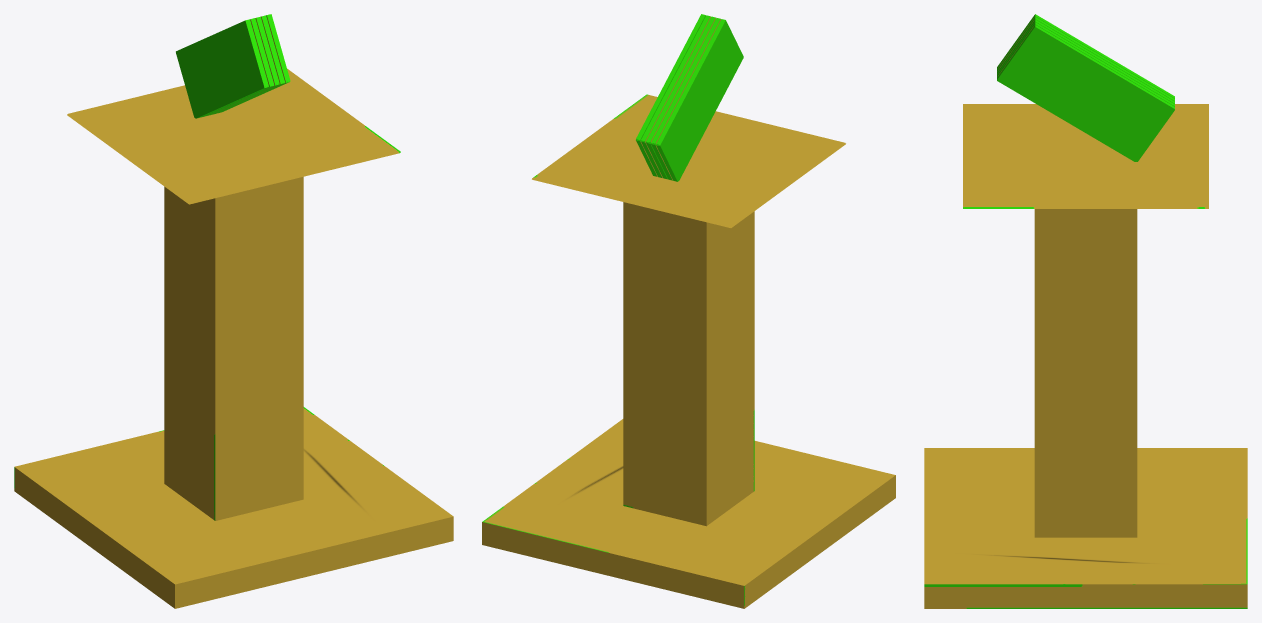
Rendered from Shrine.fbx.
The picture shows the model from 3 angles, left to right: view 1: azimuth 30°, elevation 25°; view 2: azimuth 150°, elevation 25°; view 3: azimuth 270°, elevation 25°; orthographic projection. The views are drawn at different scales.
Visible parts, largest first — view 1: Cube; view 2: Cube; view 3: Cube.
Boxes of the visible parts, <box> form: Cube: <box>14,14,453,608</box>; Cube: <box>482,14,895,608</box>; Cube: <box>924,14,1247,608</box>.
Bounding box in the file's own units: 200 × 355 × 200.
